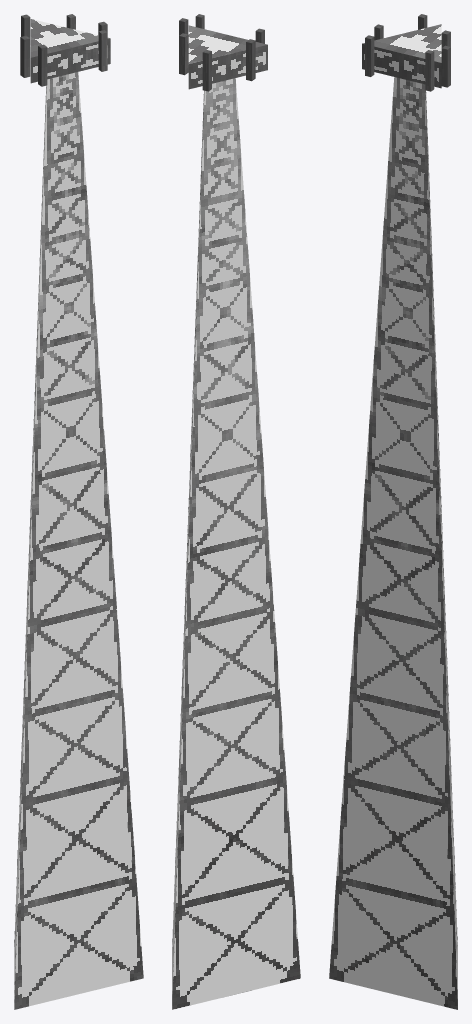
File: celltower.glb
3 views of the same model, side by side, from view 1: azimuth 30°, elevation 25°; view 2: azimuth 150°, elevation 25°; view 3: azimuth 330°, elevation 25° (orthographic).
Parts seen in each view (by area): view 1: Cylinder, Cube.003; view 2: Cylinder, Cube.003; view 3: Cylinder, Cube.003.
Boxes of the visible parts, <box> form: Cylinder: <box>14,19,143,1009</box>; Cube.003: <box>20,14,107,86</box>; Cylinder: <box>172,25,300,1009</box>; Cube.003: <box>179,14,264,91</box>; Cylinder: <box>329,24,457,1009</box>; Cube.003: <box>365,14,450,91</box>.
Size of the model in its own units: 3.92 by 27.48 by 3.39.
1 material, 1 textured.
